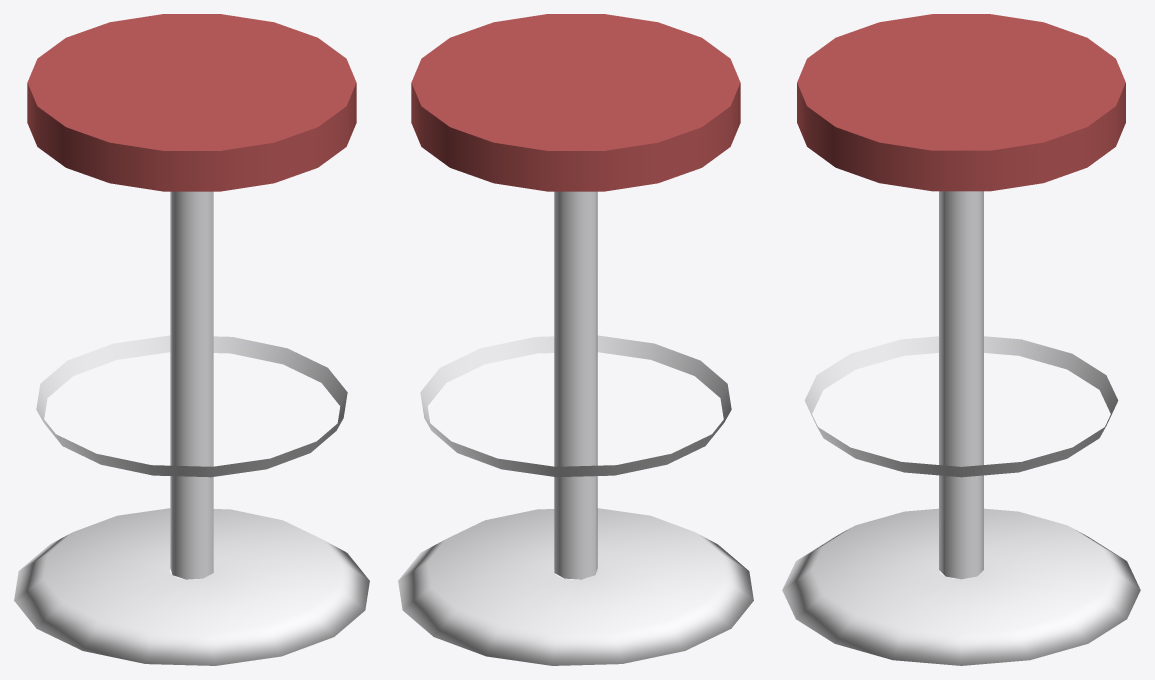
File: bar_stool.glb
3 views of the same model, side by side, from view 1: azimuth 30°, elevation 25°; view 2: azimuth 150°, elevation 25°; view 3: azimuth 270°, elevation 25° (orthographic).
Parts seen in each view (by area): view 1: bar_stool; view 2: bar_stool; view 3: bar_stool.
Boxes of the visible parts, x1=… form: bar_stool: x1=14, y1=14, x2=369, y2=665; bar_stool: x1=398, y1=14, x2=753, y2=665; bar_stool: x1=782, y1=14, x2=1140, y2=665.
Bounding box in the file's own units: 0.48 × 0.75 × 0.48.
